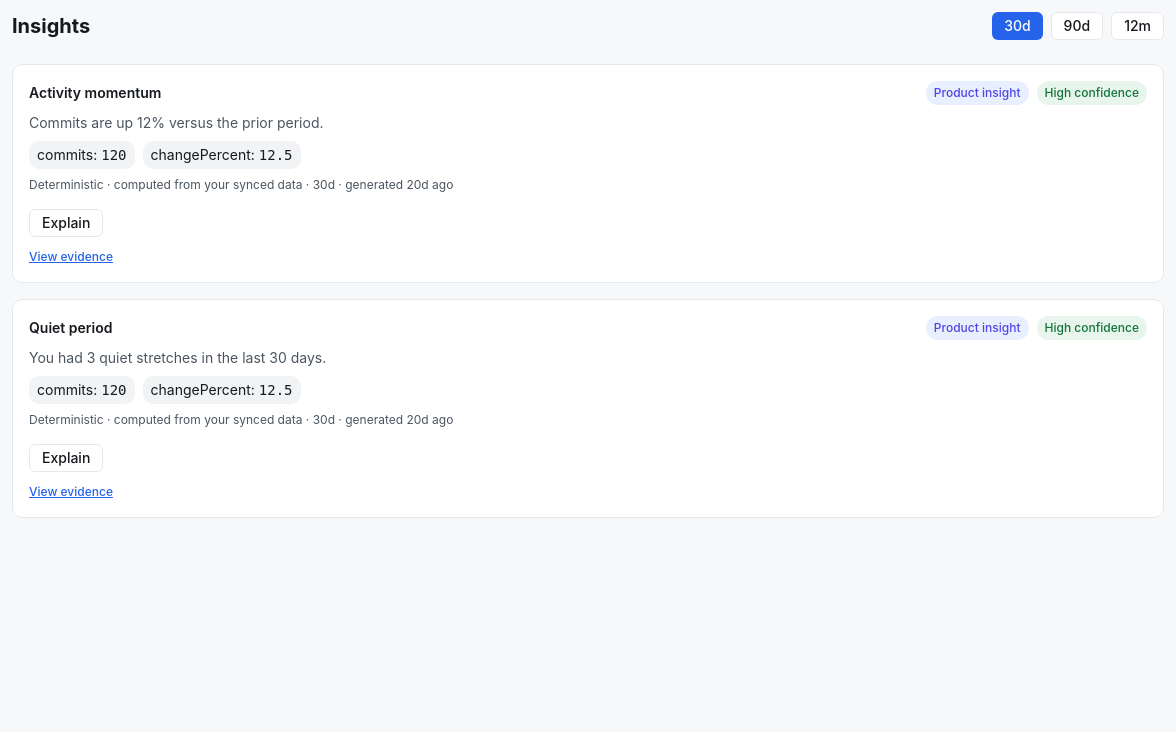
Test: Insights Explain interaction (T6.2) › keeps the insight visible when the provider fails (error is non-blocking)
Click the button "Explain" below "Activity momentum": (66, 223) [29, 209, 103, 237]
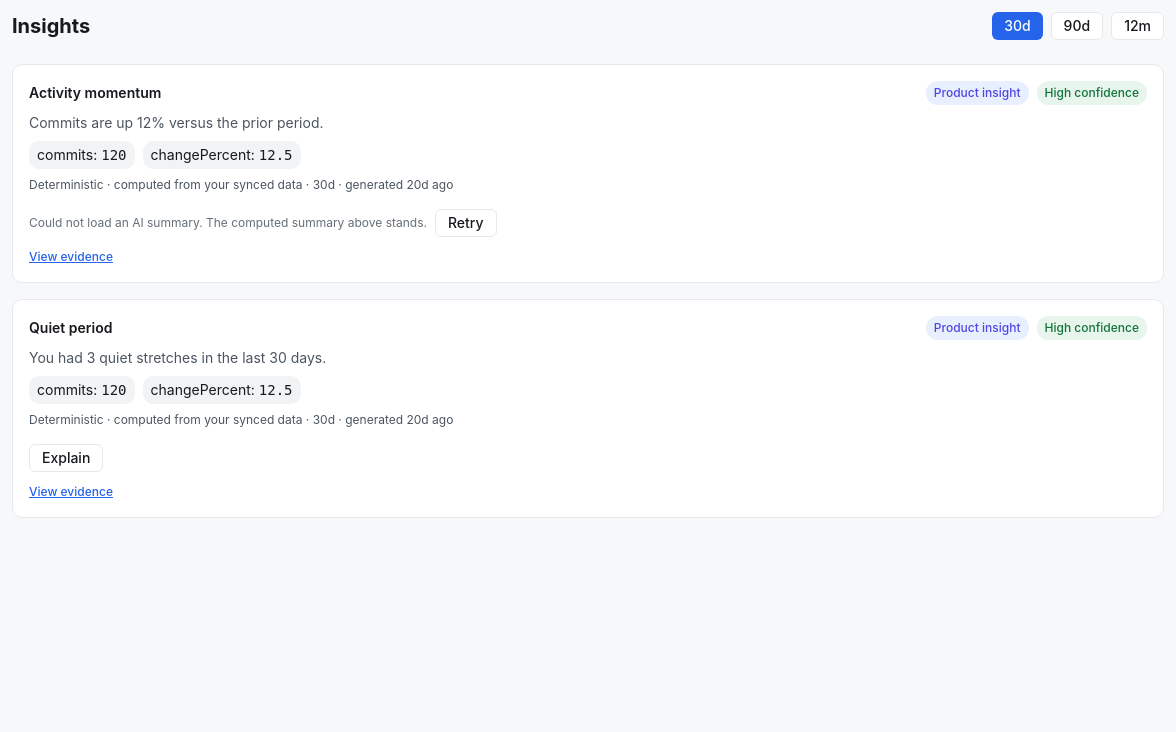
Expected: the text "Commits are up 12% versus the prior period." is shown, [29, 114, 324, 131]
Expected: the text "Could not load an AI summary. The computed summary above stands." is shown, [29, 215, 427, 231]
